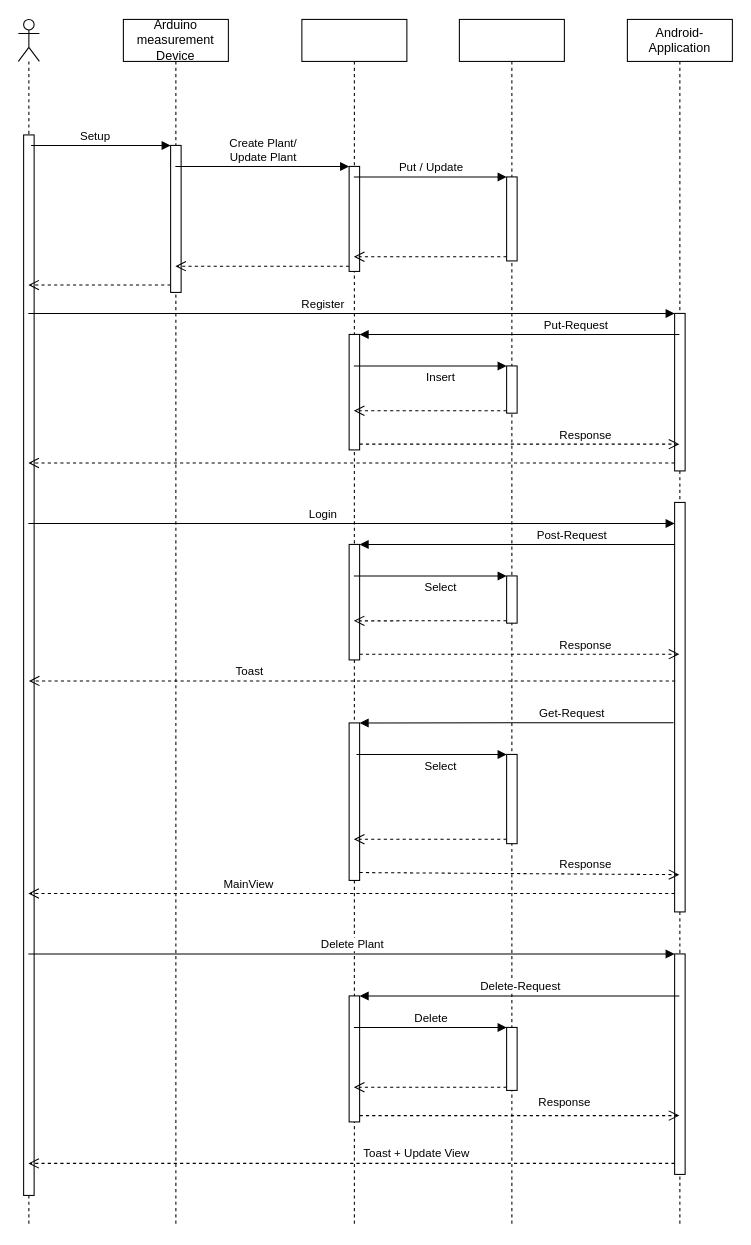
Image size: 751x1245. Some labels were removed from this diagram. The shapes that lost their labels are listed below. From the top down, each one's centre as x and y in pixels, then its label:
(354,622): Asp.Net Core Rest-Api
(511,622): MongoDb
